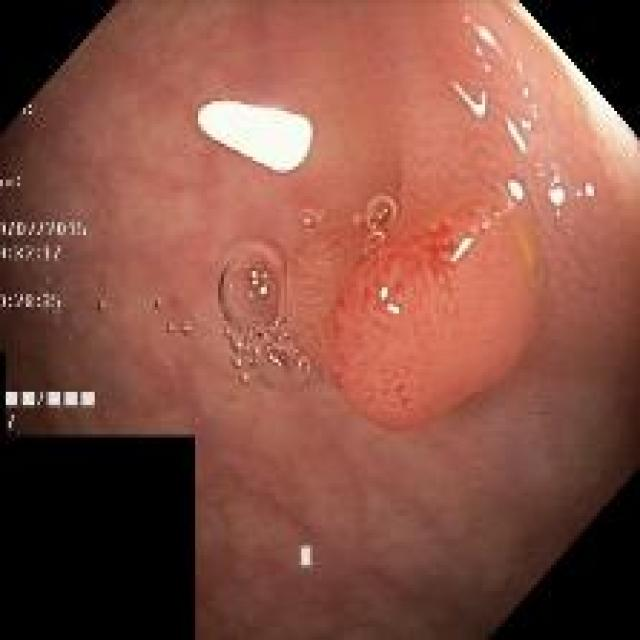Polyps: (328, 200, 540, 431)
